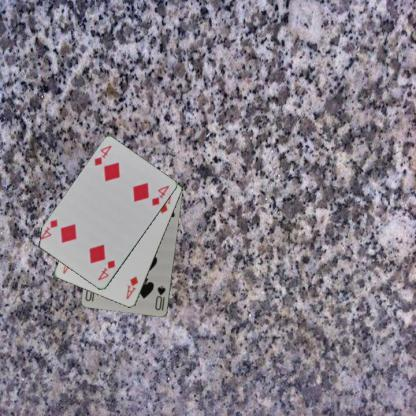10s: (152, 283, 168, 312)
4d: (92, 142, 113, 168), (95, 258, 116, 282)
Ad: (124, 274, 140, 300)
